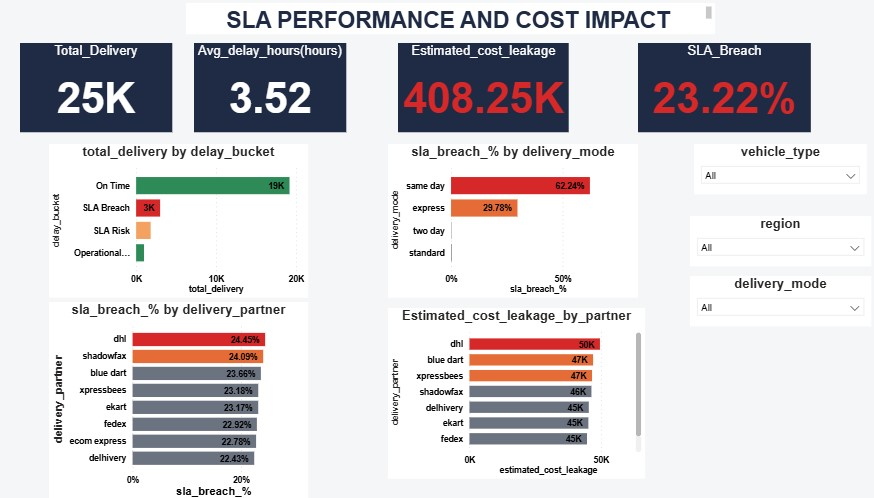

What the dashboard file says about the page in this screenshot:
{"tool":"powerbi","page":{"name":"SLA Performance","canvas":[1280,720],"ordinal":0},"visuals":[{"type":"card","title":"Total_Delivery","fields":{"Values":["Measure.total_delivery"]},"box":[53.6,73.4,214.6,125.6],"z":0},{"type":"card","title":"Estimated_cost_leakage","fields":{"Values":["Measure.delay_cost"]},"box":[587.3,73.4,241.4,125.6],"z":1000},{"type":"card","title":"Avg_delay_hours(hours)","fields":{"Values":["Measure.avg_delay_hours"]},"box":[299.3,73.4,214.6,125.6],"z":2000},{"type":"card","title":"SLA_Breach","fields":{"Values":["Measure.sla_breach_%"]},"box":[926.1,73.4,244.2,125.6],"z":3000},{"type":"clusteredBarChart","fields":{"Category":["Delivery_Logistics.delivery_mode"],"Y":["Measure.sla_breach_%"]},"box":[573.2,216,352.9,217.4],"z":4000},{"type":"barChart","fields":{"Category":["Delivery_Logistics.delivery_partner"],"Y":["Measure.sla_breach_%"]},"box":[94.6,439.1,365.6,280.9],"z":5000},{"type":"barChart","title":"Estimated_cost_leakage_by_partner","fields":{"Y":["Measure.delay_cost"],"Category":["Delivery_Logistics.delivery_partner"]},"box":[573.2,447.5,362.8,241.4],"z":6000},{"type":"barChart","fields":{"Category":["Delivery_Logistics.delay_bucket"],"Y":["Measure.total_delivery"]},"box":[94.6,216,365.6,217.4],"z":7000},{"type":"slicer","title":"vehicle_type","fields":{"Values":["Delivery_Logistics.vehicle_type"]},"box":[1005.2,216,244.2,70.6],"z":8000},{"type":"slicer","title":"region","fields":{"Values":["Delivery_Logistics.region"]},"box":[999.5,317.6,255.5,70.6],"z":9000},{"type":"textbox","box":[288,16.9,746.8,43.8],"z":10000},{"type":"slicer","title":"delivery_mode","fields":{"Values":["Delivery_Logistics.delivery_mode"]},"box":[999.5,402.4,255.5,70.6],"z":11000},{"type":"slicer","title":"weather","fields":{"Values":["Delivery_Logistics.weather_condition"]},"box":[999.5,498.4,255.5,70.6],"z":12000}]}

Visuals, with their boxes in screenshot pixels (x1, y1, x2, y2), scaled from the page's 1280x720 canvas onto the 874x498 screenshot:
"Total_Delivery" card: {"left": 37, "top": 51, "right": 183, "bottom": 138}
"Estimated_cost_leakage" card: {"left": 401, "top": 51, "right": 566, "bottom": 138}
"Avg_delay_hours(hours)" card: {"left": 204, "top": 51, "right": 351, "bottom": 138}
"SLA_Breach" card: {"left": 632, "top": 51, "right": 799, "bottom": 138}
clusteredBarChart - Delivery_Logistics.delivery_mode x Measure.sla_breach_%: {"left": 391, "top": 149, "right": 632, "bottom": 300}
barChart - Delivery_Logistics.delivery_partner x Measure.sla_breach_%: {"left": 65, "top": 304, "right": 314, "bottom": 497}
"Estimated_cost_leakage_by_partner" barChart: {"left": 391, "top": 310, "right": 639, "bottom": 476}
barChart - Delivery_Logistics.delay_bucket x Measure.total_delivery: {"left": 65, "top": 149, "right": 314, "bottom": 300}
"vehicle_type" slicer: {"left": 686, "top": 149, "right": 853, "bottom": 198}
"region" slicer: {"left": 682, "top": 220, "right": 857, "bottom": 269}
textbox: {"left": 197, "top": 12, "right": 707, "bottom": 42}
"delivery_mode" slicer: {"left": 682, "top": 278, "right": 857, "bottom": 327}
"weather" slicer: {"left": 682, "top": 345, "right": 857, "bottom": 394}
